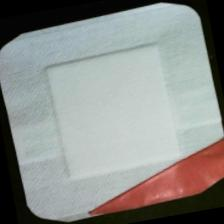Dressing: (1, 1, 224, 224)
Red_T: (78, 129, 224, 223)
